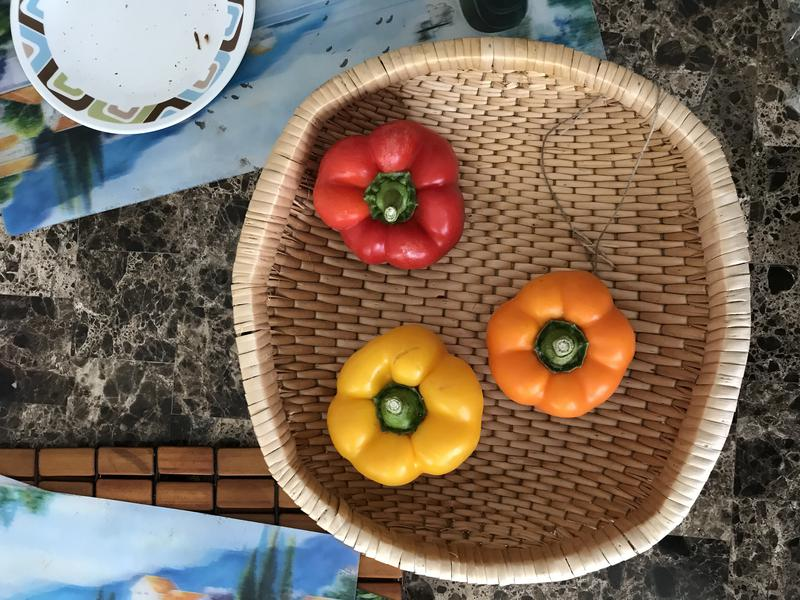orange_pepper: (481, 265, 646, 425)
red_pepper: (307, 115, 468, 277)
yellow_pepper: (325, 320, 489, 493)
